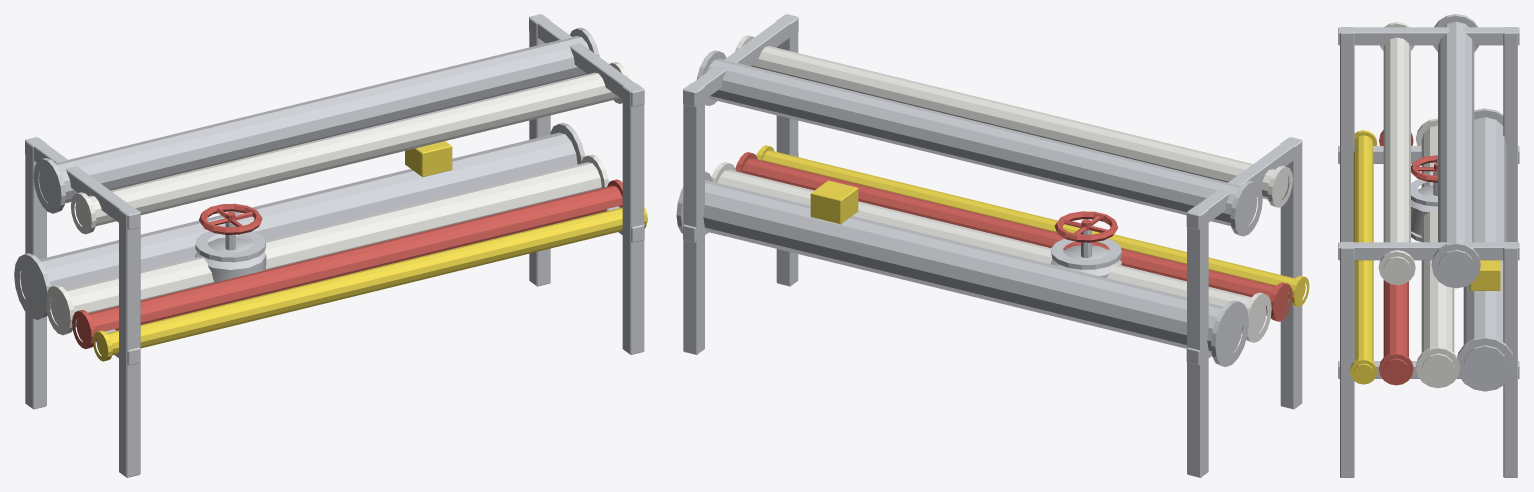
Rendered from offshore-oil-rig-and-platform-pipe-rack-bay-936e7393__37031.glb.
3 renders of one model, left to right at view 1: azimuth 30°, elevation 25°; view 2: azimuth 150°, elevation 25°; view 3: azimuth 270°, elevation 25°, orthographic. The views are drawn at different scales.
Visible parts, largest first — view 1: pipe-rack-bay, handwheel-rack; view 2: pipe-rack-bay, handwheel-rack; view 3: pipe-rack-bay, handwheel-rack.
Part boxes in pixels (<box>): pipe-rack-bay: <box>14,14,647,477</box>; handwheel-rack: <box>199,203,262,234</box>; pipe-rack-bay: <box>676,14,1309,477</box>; handwheel-rack: <box>1054,211,1118,242</box>; pipe-rack-bay: <box>1338,14,1519,477</box>; handwheel-rack: <box>1411,155,1437,182</box>.
Size of the model in its own units: 6.02 by 2.89 by 2.
